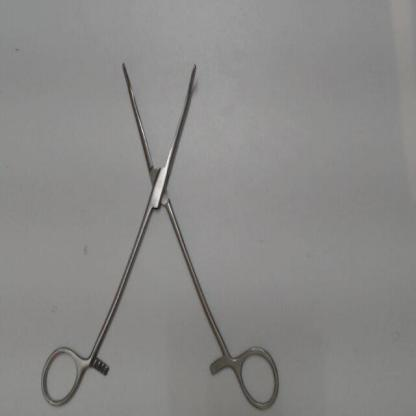Lahey Forceps: (39, 53, 283, 412)
